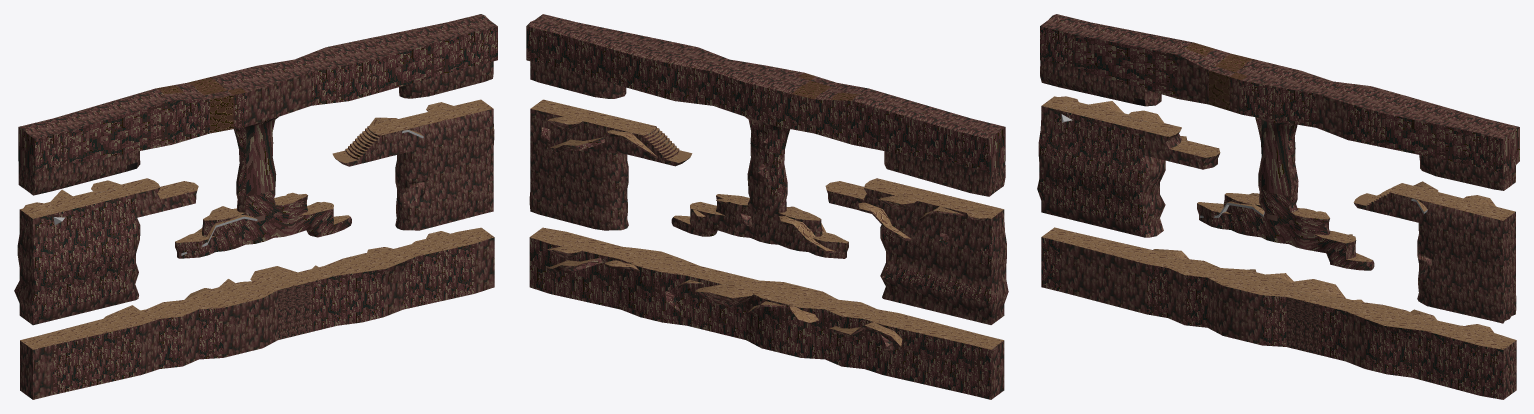
The model's file is Room4.fbx.
The picture shows the model from 3 angles, left to right: view 1: azimuth 30°, elevation 25°; view 2: azimuth 150°, elevation 25°; view 3: azimuth 330°, elevation 25°; orthographic projection.
Visible parts, largest first — view 1: polySurface345; view 2: polySurface345; view 3: polySurface345.
Part boxes in pixels (left/top/right/bottom): polySurface345: left=14, top=14, right=497, bottom=399; polySurface345: left=526, top=14, right=1008, bottom=399; polySurface345: left=1037, top=14, right=1519, bottom=399.
Bounding box in the file's own units: 20.45 × 11.27 × 2.44.
